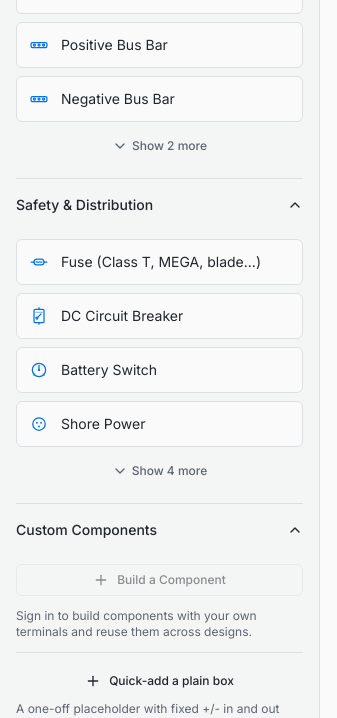
Test: Component library entries › offers DC and AC breakers, and a general fuse rather than Class T only
(page scrolled)
Click the button "Show 4 more" at x=160, y=471, box [16,455,303,487]
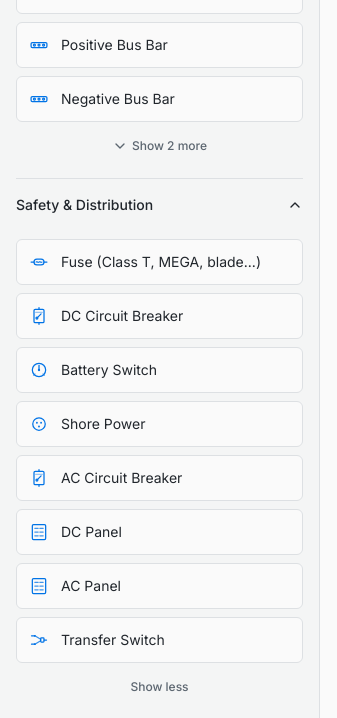
Expected: the text "DC Circuit Breaker" is shown, [61,307,183,324]
Expected: the text "AC Circuit Breaker" is shown, [61,469,182,486]
